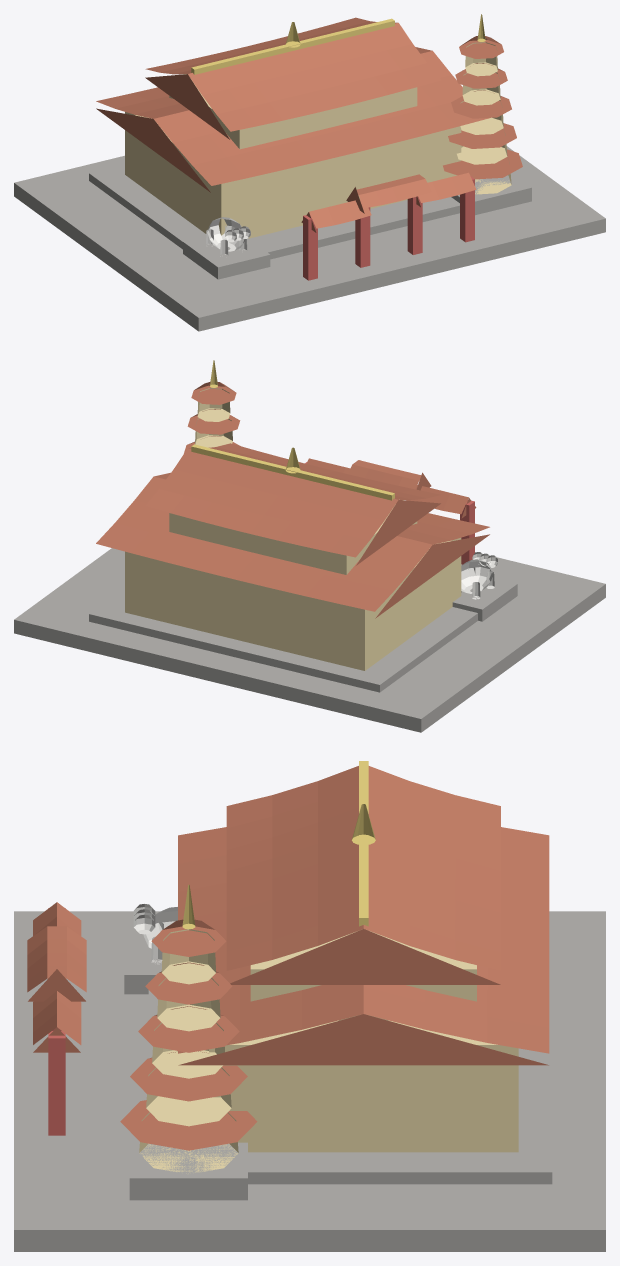
File: lm_71_chua_linh_quang_co_tu_1931.glb
The picture shows the model from 3 angles, top to bottom: view 1: azimuth 30°, elevation 25°; view 2: azimuth 150°, elevation 25°; view 3: azimuth 270°, elevation 25°; orthographic projection. The views are drawn at different scales.
Parts seen in each view (by area): view 1: lm_71_chua_linh_quang_co_tu_1931; view 2: lm_71_chua_linh_quang_co_tu_1931; view 3: lm_71_chua_linh_quang_co_tu_1931.
Boxes of the visible parts, x1,y1,x2,y2 form: lm_71_chua_linh_quang_co_tu_1931: (14, 14, 605, 331); lm_71_chua_linh_quang_co_tu_1931: (14, 360, 605, 732); lm_71_chua_linh_quang_co_tu_1931: (14, 761, 605, 1251).
Bounding box in the file's own units: 28 × 12.8 × 22.
